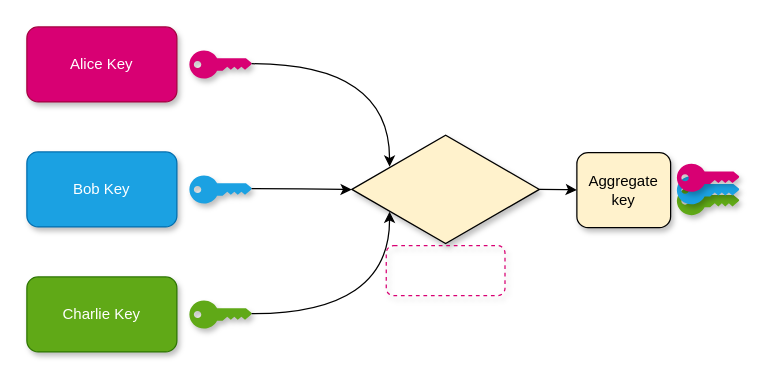
Image size: 769x383. Some labels were removed from this diagram. Here are the shapes that lost their labels. From the top down, the centre of each, then its label:
At point 446,190: "Musig2".
At point 446,271: "Less Interaction Two Rounds".
